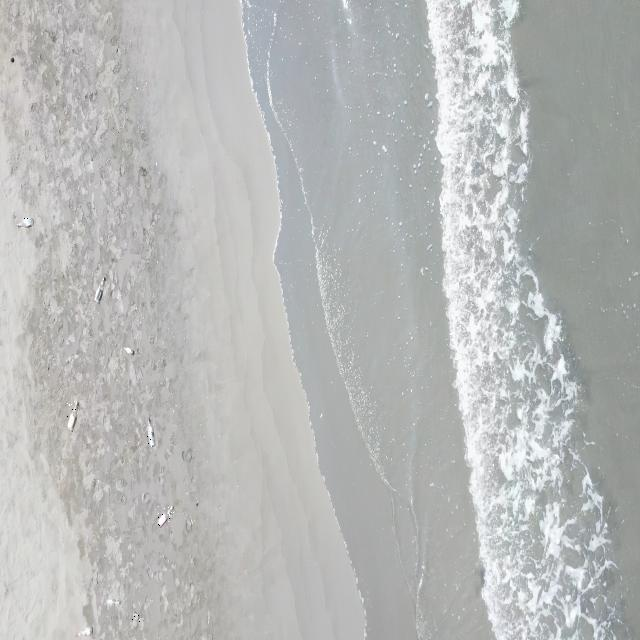glass: (158, 504, 174, 528), (93, 276, 105, 306), (67, 401, 78, 431), (146, 417, 156, 447), (74, 625, 92, 639), (16, 216, 34, 229), (105, 598, 120, 607), (124, 346, 134, 356), (132, 610, 140, 622)
